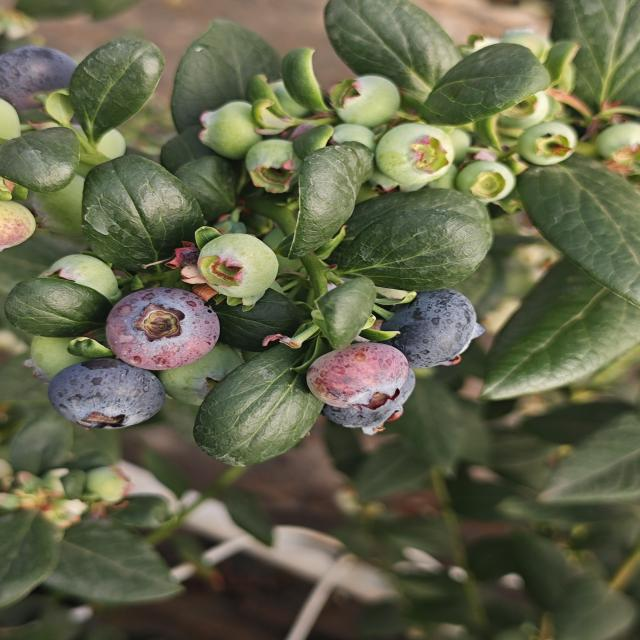ripe: (102, 281, 215, 363), (48, 363, 157, 428), (401, 297, 476, 369), (0, 38, 76, 97), (339, 386, 402, 435)
